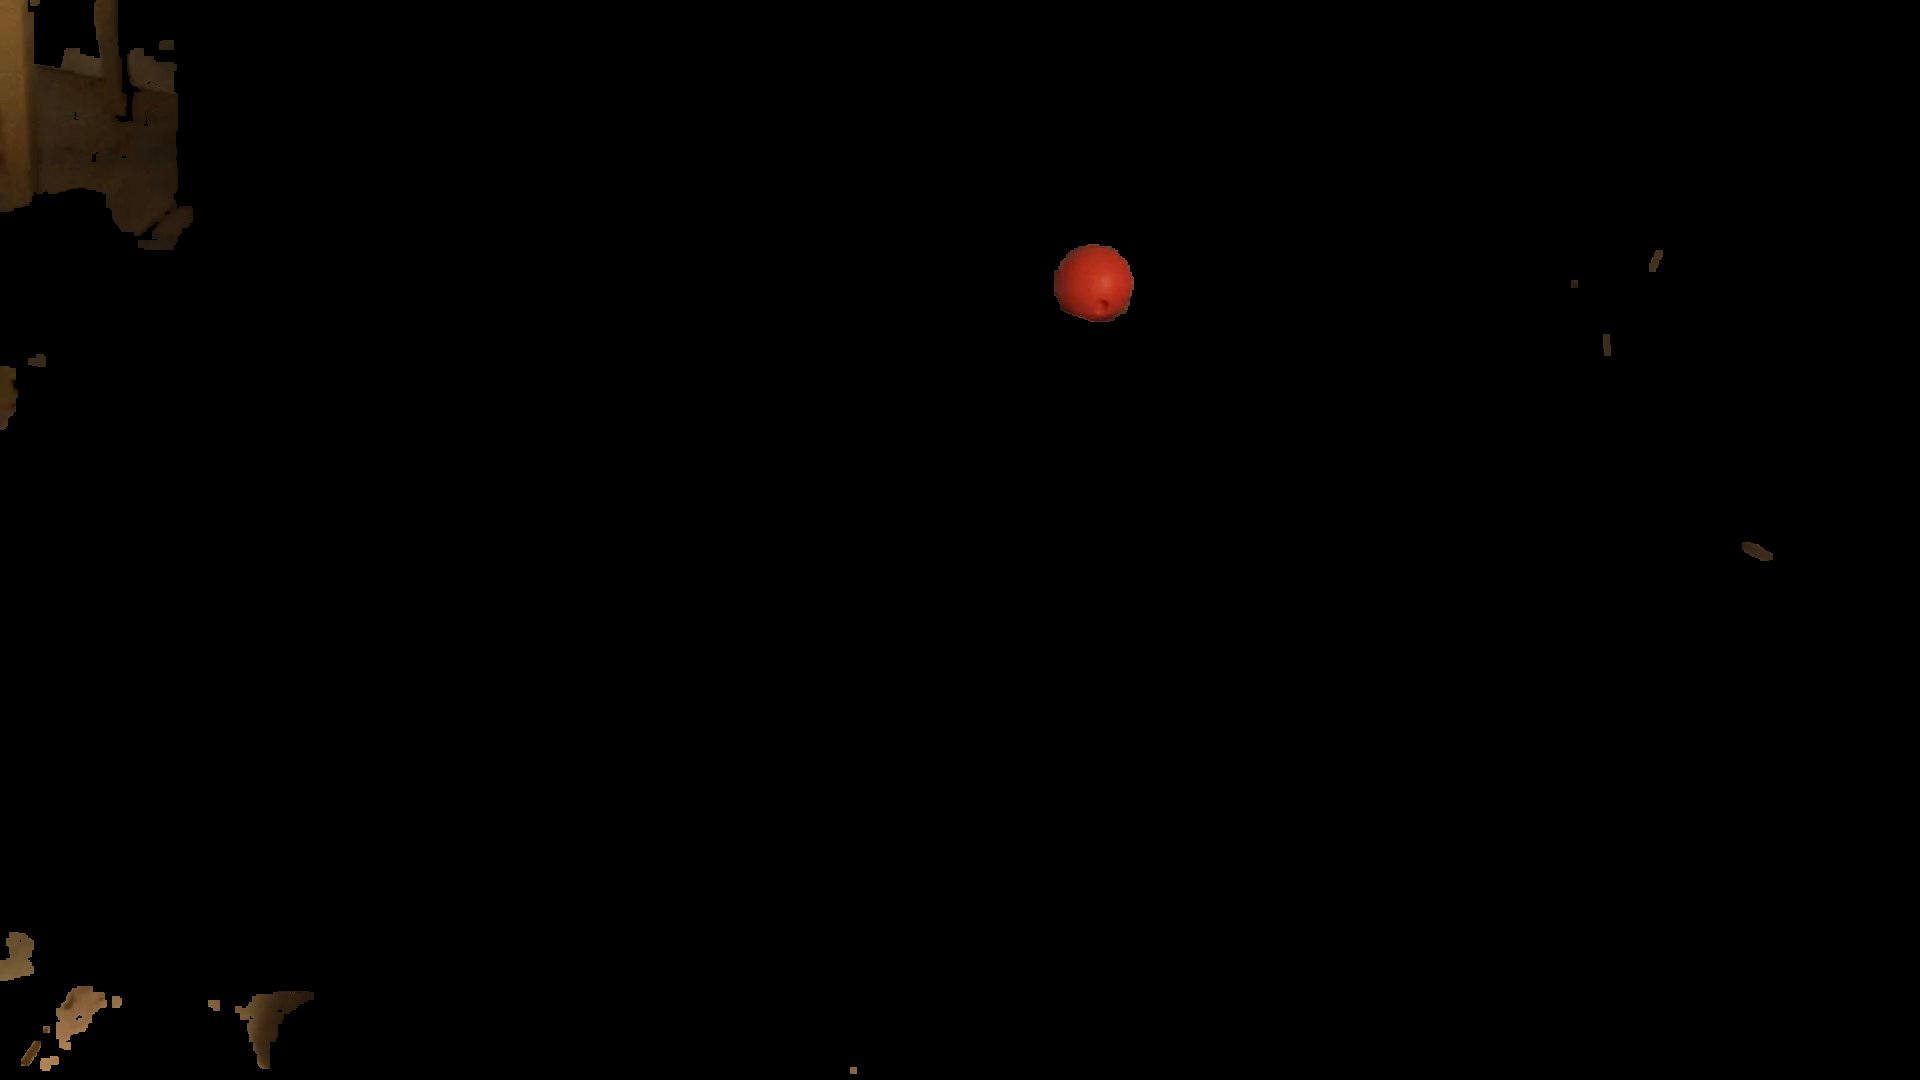Ball: (1059, 245, 1133, 320)
